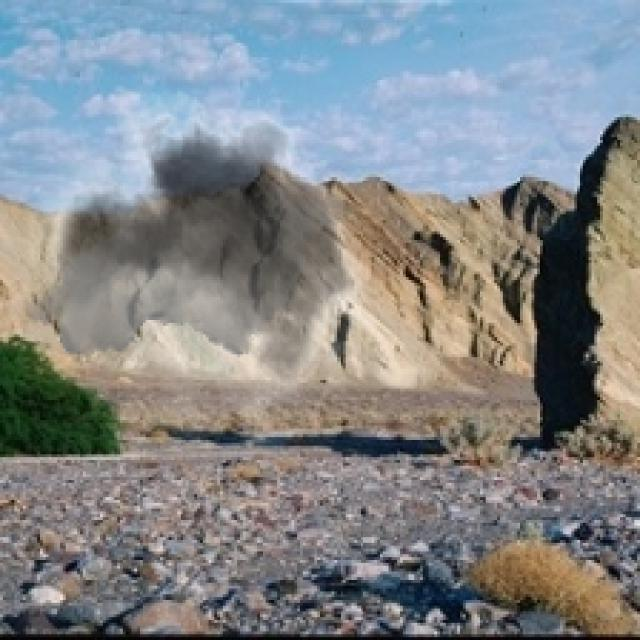smoke: (23, 69, 386, 460)
